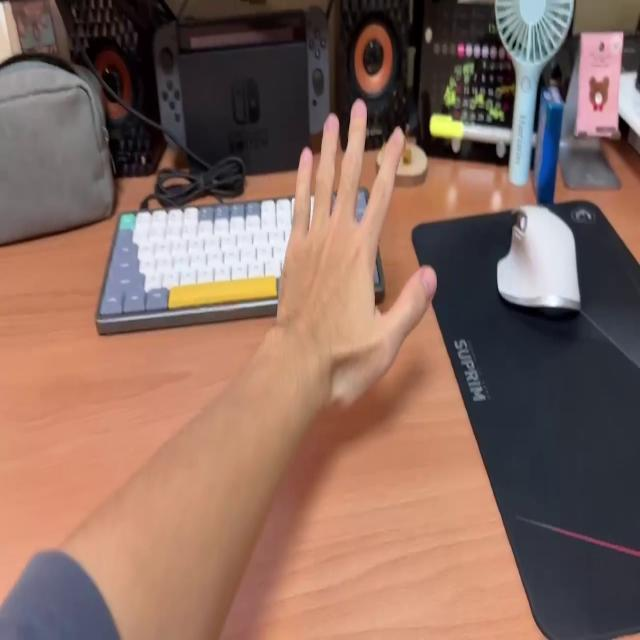keyboard-with-hands: (98, 188, 383, 320)
